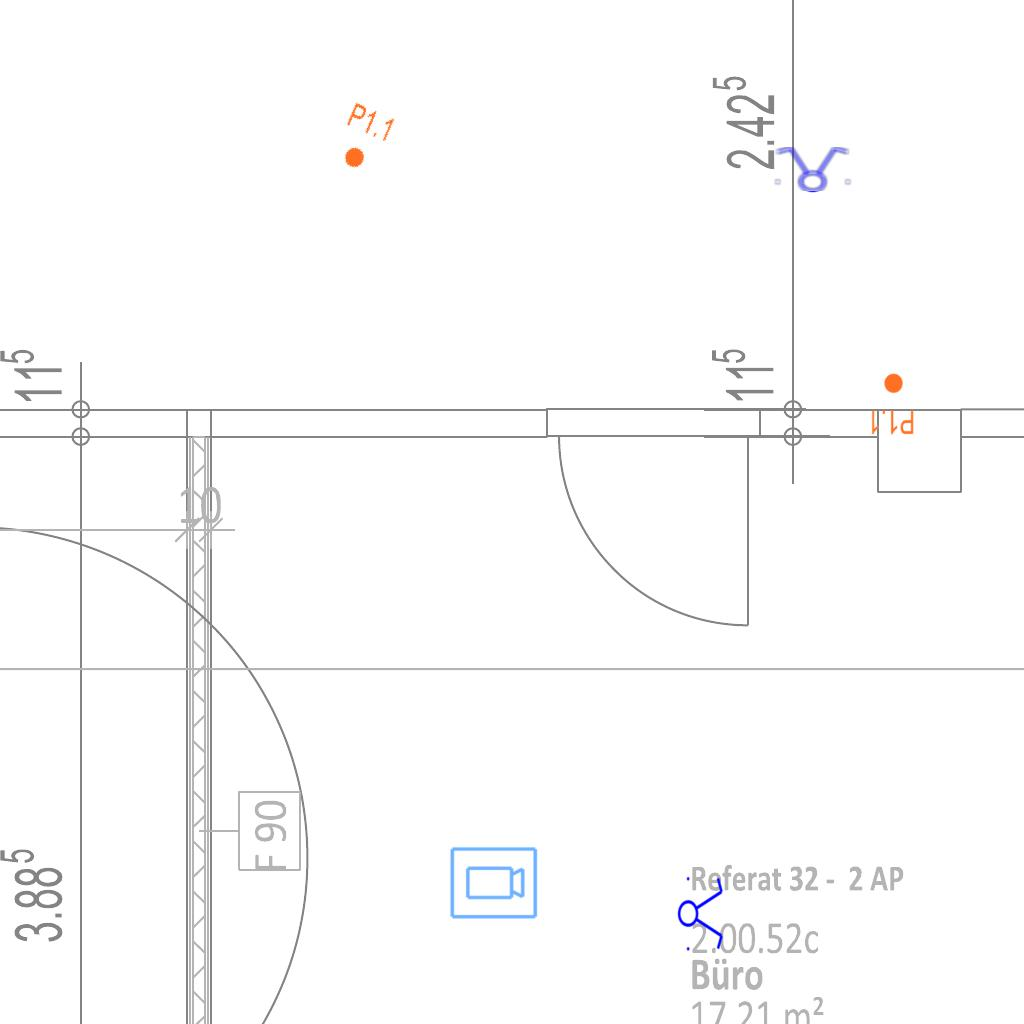Downlight_LED_Einbauleuchten_Flur: (330, 100, 398, 178), (869, 372, 915, 436)
KFO_Kamera_mit_Festobjektiv: (448, 845, 539, 922)
Serienschalter: (677, 871, 725, 955), (770, 145, 854, 193)
